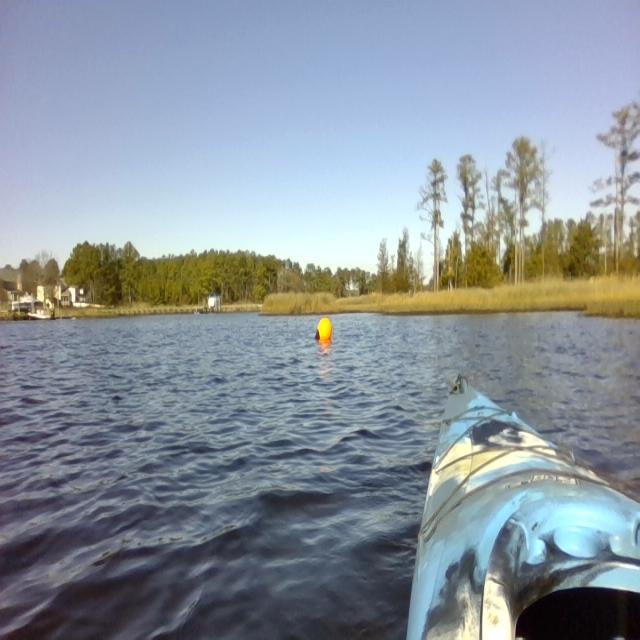Buoy: (309, 308, 339, 351)
